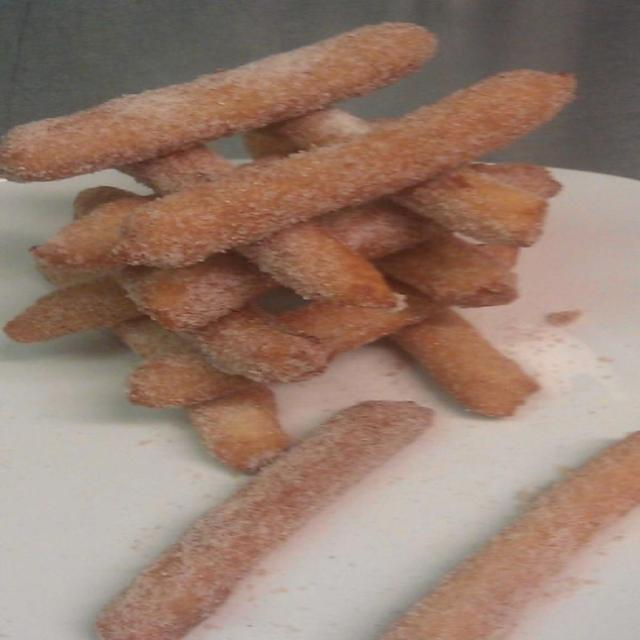炸货点心: (10, 18, 612, 626)
